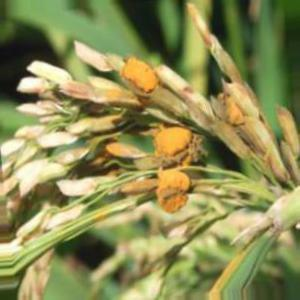Leaf_Scald: (158, 129, 200, 221), (125, 57, 161, 100), (222, 89, 248, 121)
